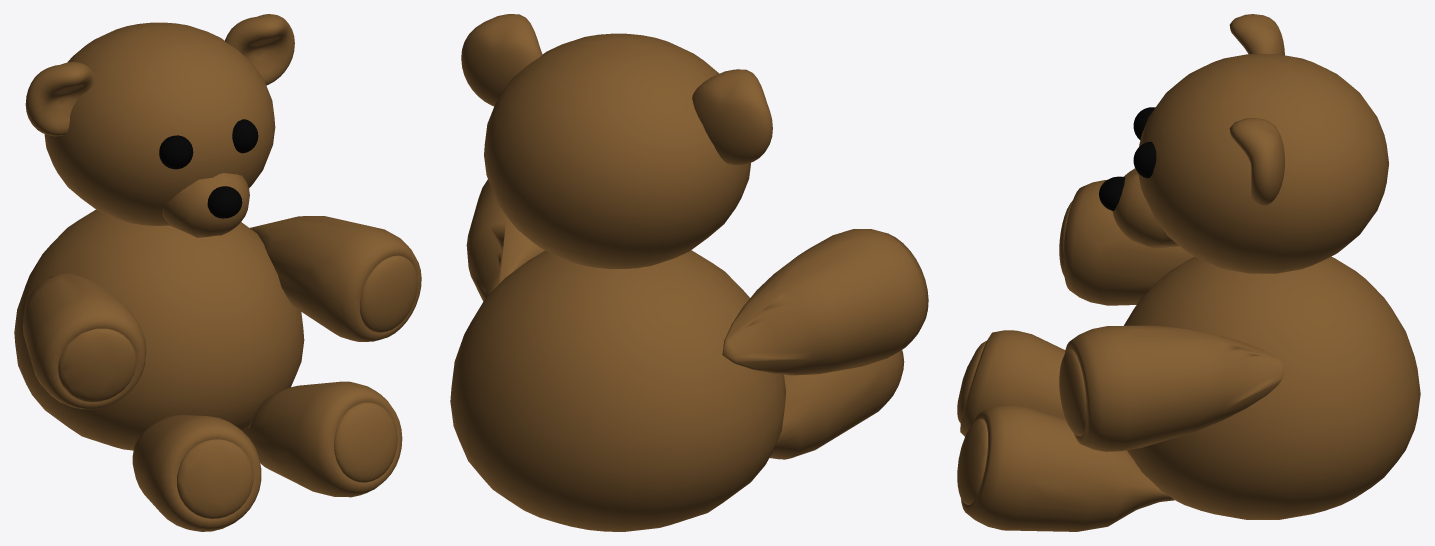
File: bear.dae
3 views of the same model, side by side, from view 1: azimuth 30°, elevation 25°; view 2: azimuth 150°, elevation 25°; view 3: azimuth 270°, elevation 25° (orthographic). The views are drawn at different scales.
Parts seen in each view (by area): view 1: Sphere_012, Sphere_004, Sphere_014, Sphere_011; view 2: Sphere_012; view 3: Sphere_012, Sphere_004, Sphere_014, Sphere_011.
Part boxes in pixels (x1=…): Sphere_012: x1=14, y1=14, x2=421, y2=531; Sphere_004: x1=58, y1=173, x2=417, y2=518; Sphere_014: x1=159, y1=119, x2=258, y2=169; Sphere_011: x1=207, y1=186, x2=242, y2=218; Sphere_012: x1=450, y1=14, x2=928, y2=531; Sphere_012: x1=960, y1=14, x2=1420, y2=531; Sphere_004: x1=957, y1=168, x2=1178, y2=504; Sphere_014: x1=1133, y1=107, x2=1156, y2=178; Sphere_011: x1=1099, y1=176, x2=1124, y2=210.
Bounding box in the file's own units: 0.131 × 0.1286 × 0.1311.
